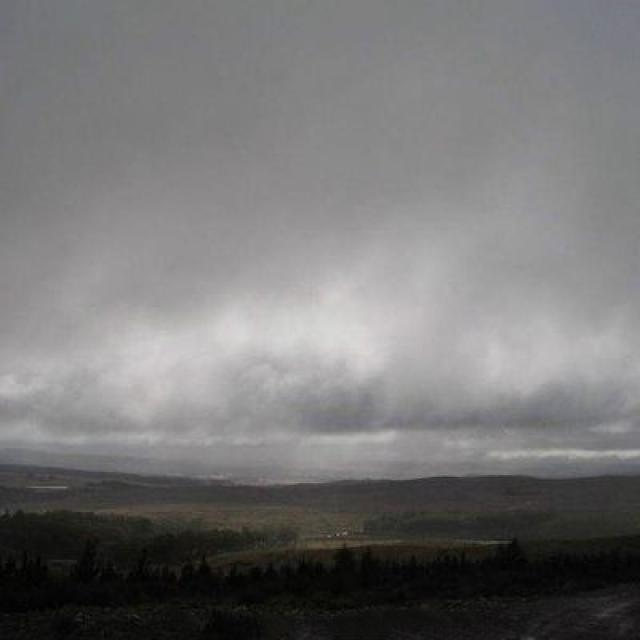St: (15, 25, 640, 459)
